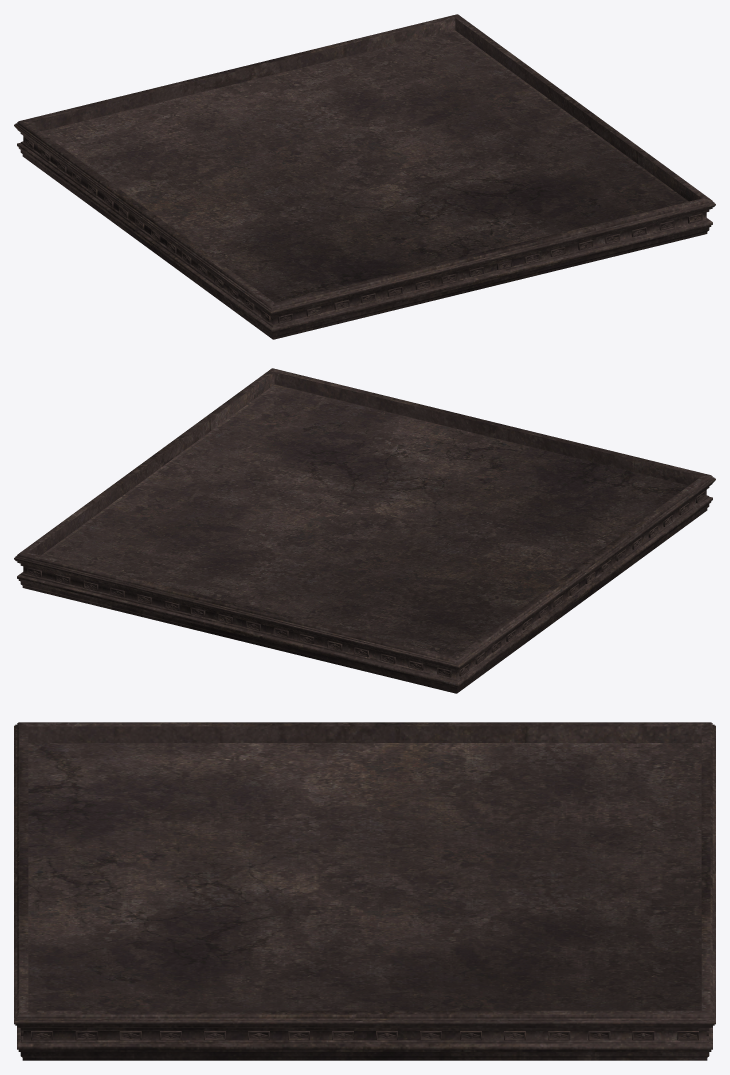
File: SK1 ROOF BIG.fbx
The picture shows the model from 3 angles, top to bottom: view 1: azimuth 30°, elevation 25°; view 2: azimuth 150°, elevation 25°; view 3: azimuth 270°, elevation 25°; orthographic projection. The views are drawn at different scales.
Parts seen in each view (by area): view 1: SK1 ROOF BIG; view 2: SK1 ROOF BIG; view 3: SK1 ROOF BIG.
Boxes of the visible parts, x1,y1,x2,y2 form: SK1 ROOF BIG: (14, 14, 715, 339); SK1 ROOF BIG: (14, 368, 715, 693); SK1 ROOF BIG: (14, 722, 715, 1060).
Bounding box in the file's own units: 3289 × 246 × 3288.
